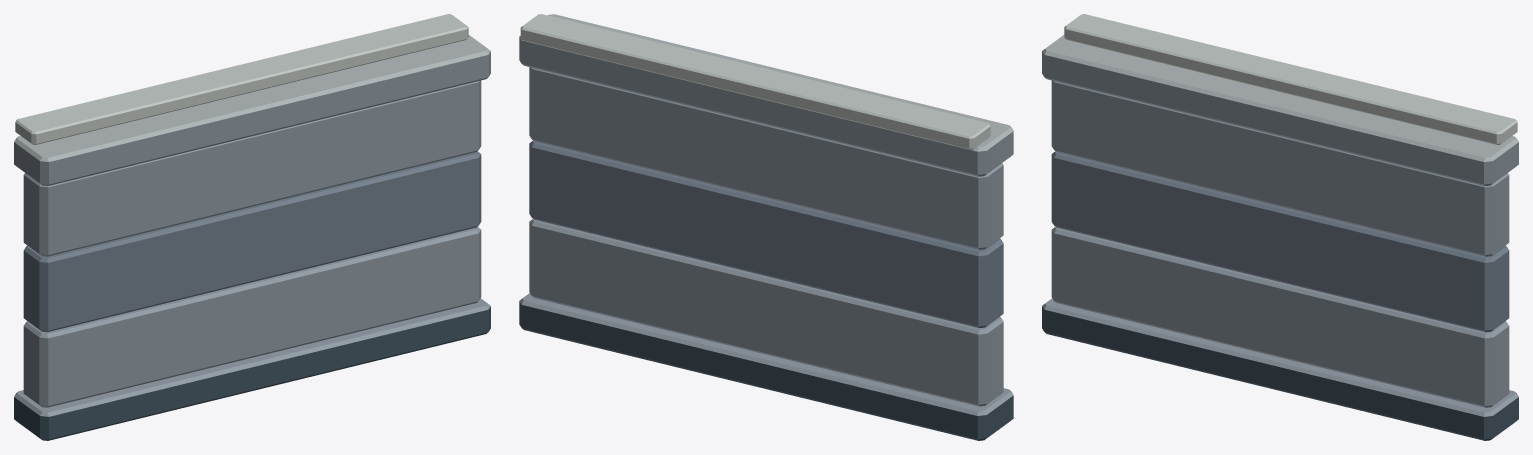
Rendered from platform-edge.glb.
3 views of the same model, side by side, from view 1: azimuth 30°, elevation 25°; view 2: azimuth 150°, elevation 25°; view 3: azimuth 330°, elevation 25° (orthographic). The views are drawn at different scales.
Parts seen in each view (by area): view 1: platform-edge__body; view 2: platform-edge__body; view 3: platform-edge__body.
Boxes of the visible parts, bbox=[...] form: platform-edge__body: bbox=[14, 14, 490, 440]; platform-edge__body: bbox=[519, 14, 1013, 440]; platform-edge__body: bbox=[1042, 14, 1518, 440].
Size of the model in its own units: 2 by 1.25 by 0.28.
